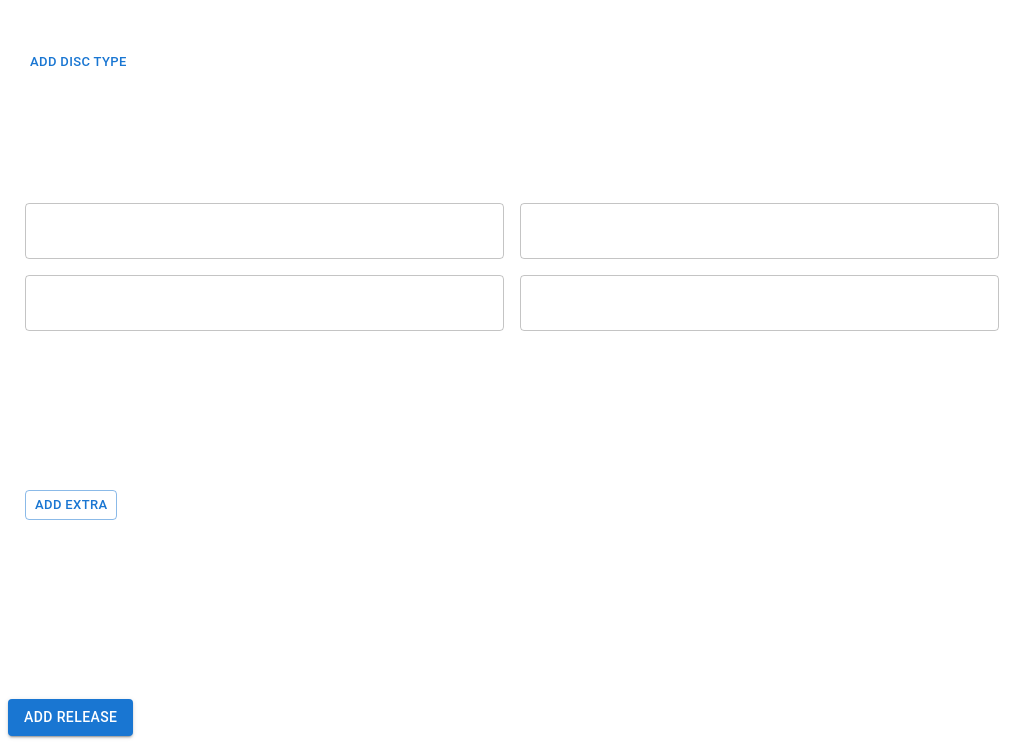
Test: Phase D - Release form sections › adds an extra row when Add Extra is clicked
(page scrolled)
Click the button with test id "add-extra-btn". click: (71, 505)
box: [25,490,118,520]
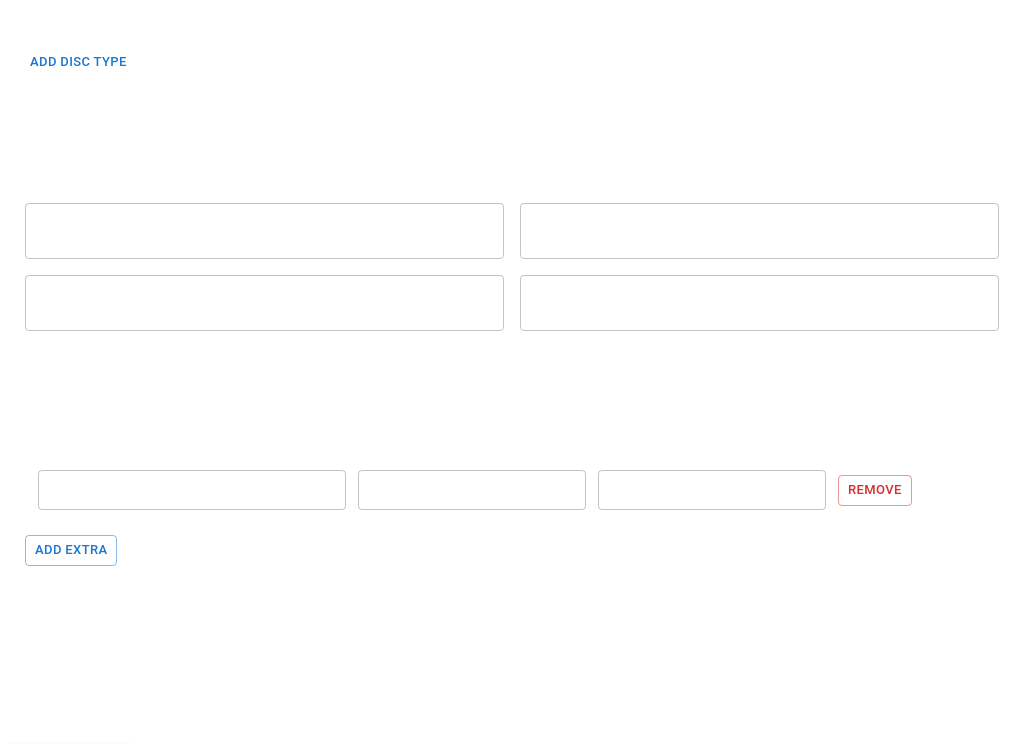
Expected: the field labelled "Type" is shown, [598,470,826,510]
